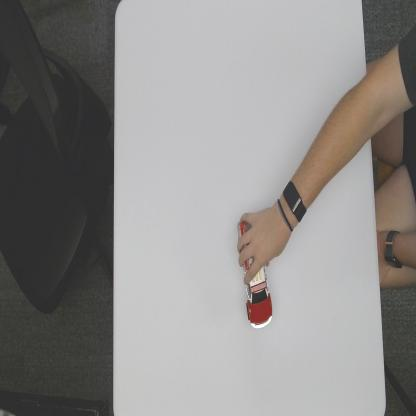Arm: (309, 71, 373, 210)
Firetruck: (238, 216, 273, 330)
Hand: (241, 204, 285, 284)
